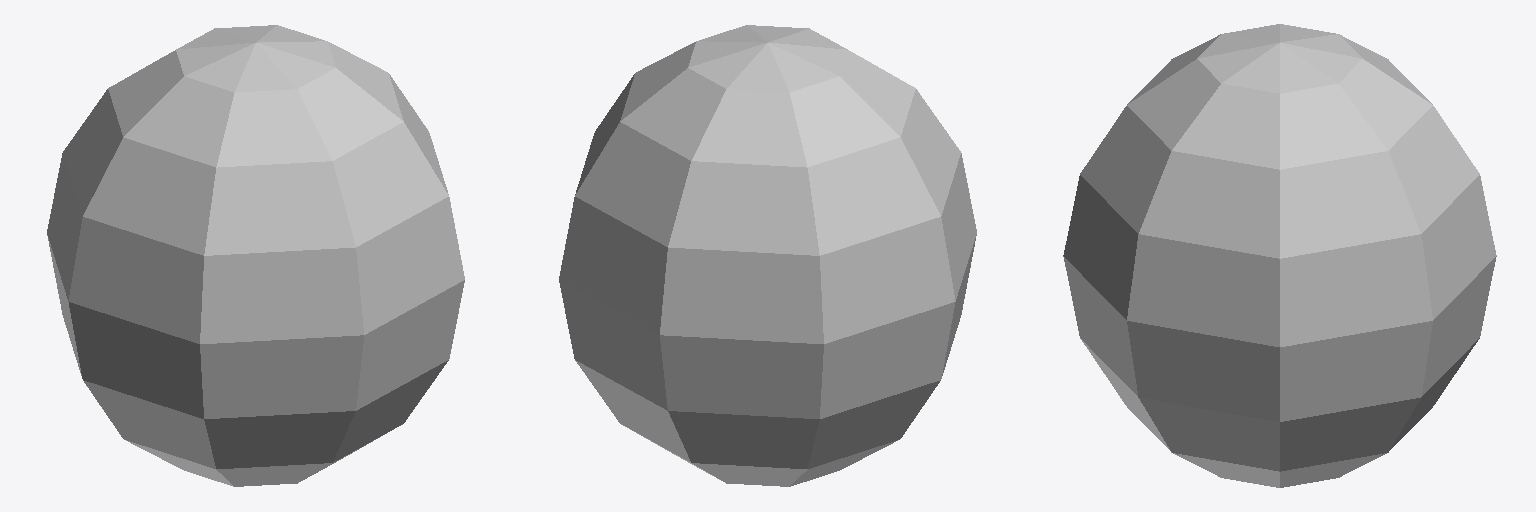
File: Elbow_L.obj
3 views of the same model, side by side, from view 1: azimuth 30°, elevation 25°; view 2: azimuth 150°, elevation 25°; view 3: azimuth 270°, elevation 25° (orthographic).
Visible parts, largest first — view 1: pSphere2 Elbow_L; view 2: pSphere2 Elbow_L; view 3: pSphere2 Elbow_L.
Boxes of the visible parts, x1,y1,x2,y2 form: pSphere2 Elbow_L: [47, 25, 464, 486]; pSphere2 Elbow_L: [559, 25, 976, 486]; pSphere2 Elbow_L: [1063, 24, 1496, 487].
Bounding box in the file's own units: 0.5992 × 0.6515 × 0.5992.